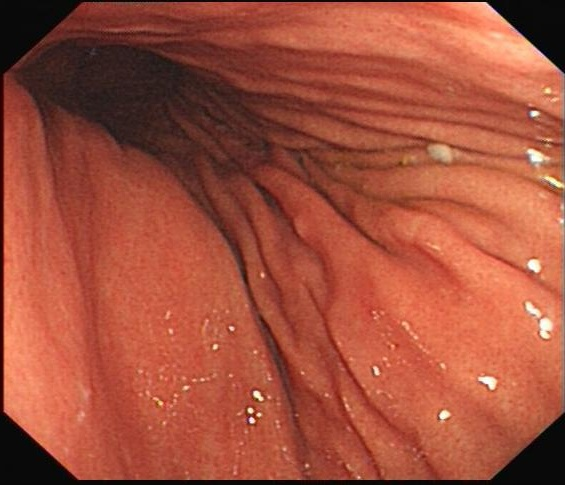Polyp: (271, 193, 329, 258)
